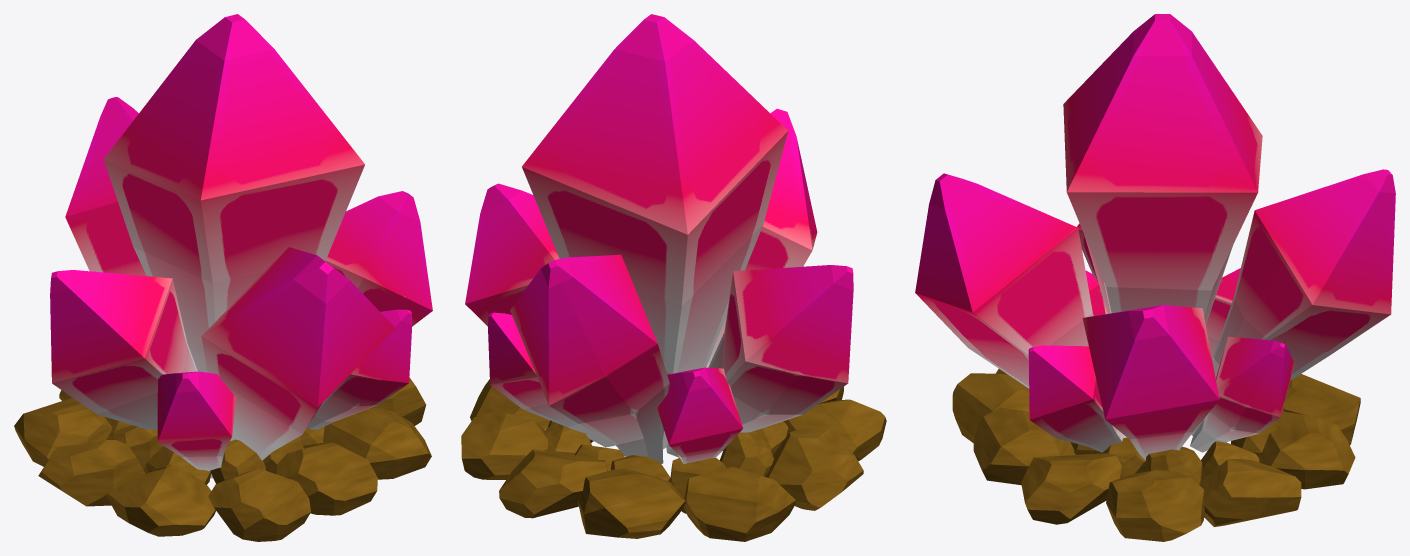
File: cristal_rojo.obj
The picture shows the model from 3 angles, left to right: view 1: azimuth 30°, elevation 25°; view 2: azimuth 150°, elevation 25°; view 3: azimuth 270°, elevation 25°; orthographic projection.
Visible parts, largest first — view 1: Object_22, Object_24, Object_26; view 2: Object_22, Object_24, Object_26; view 3: Object_22, Object_24, Object_26.
Part boxes in pixels (x1=…): Object_22: x1=50, y1=14, x2=432, y2=478; Object_24: x1=14, y1=377, x2=431, y2=541; Object_26: x1=105, y1=417, x2=324, y2=484; Object_22: x1=465, y1=14, x2=853, y2=463; Object_24: x1=461, y1=379, x2=886, y2=541; Object_26: x1=544, y1=420, x2=788, y2=513; Object_22: x1=915, y1=14, x2=1395, y2=460; Object_24: x1=952, y1=369, x2=1360, y2=541; Object_26: x1=1070, y1=406, x2=1285, y2=484.
Bounding box in the file's own units: 2.87 × 3.32 × 3.22.
